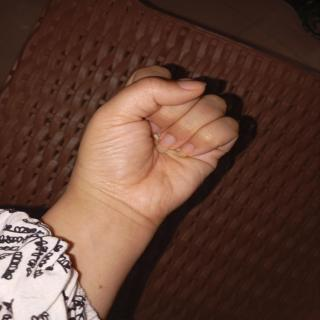SAD: (79, 60, 262, 250)
